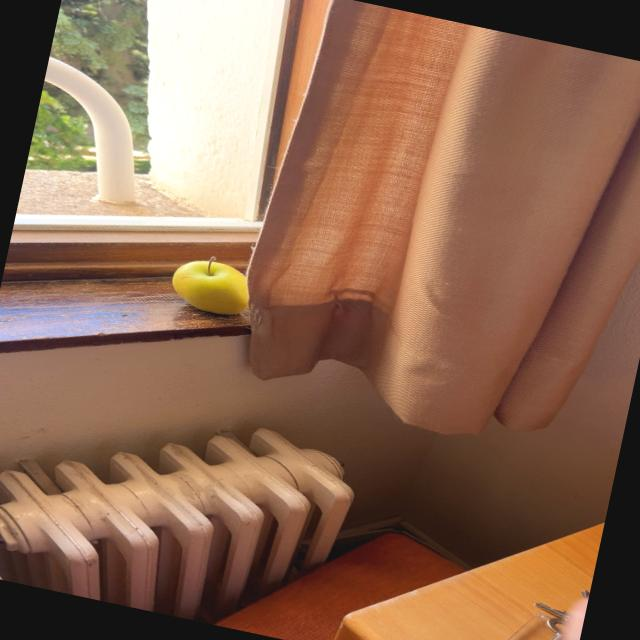apple: (172, 257, 248, 314)
